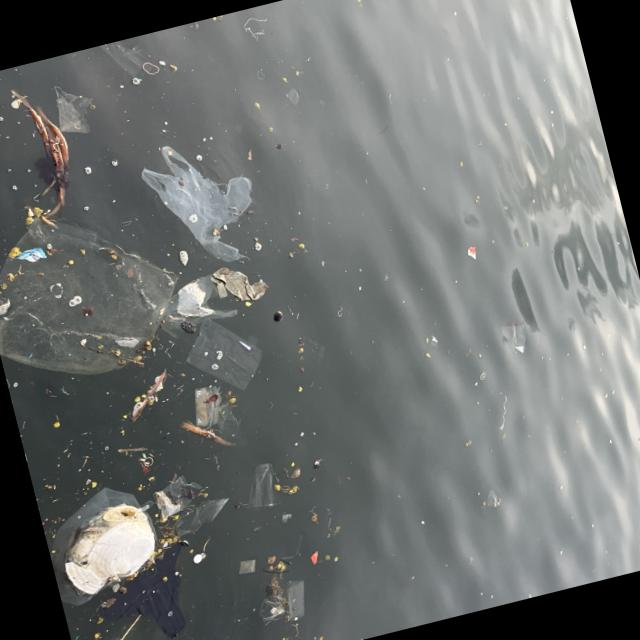foam: (58, 518, 164, 603)
plastic bag: (1, 215, 176, 375), (139, 142, 253, 258), (163, 264, 235, 335)
